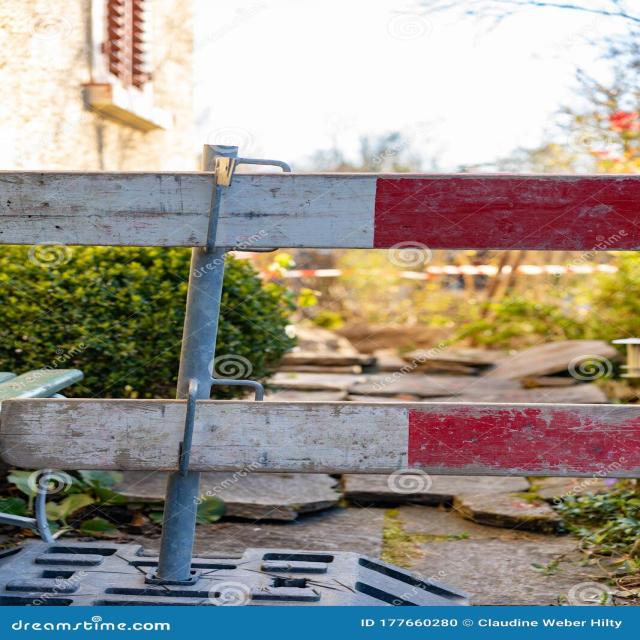cone: (1, 144, 638, 590)
